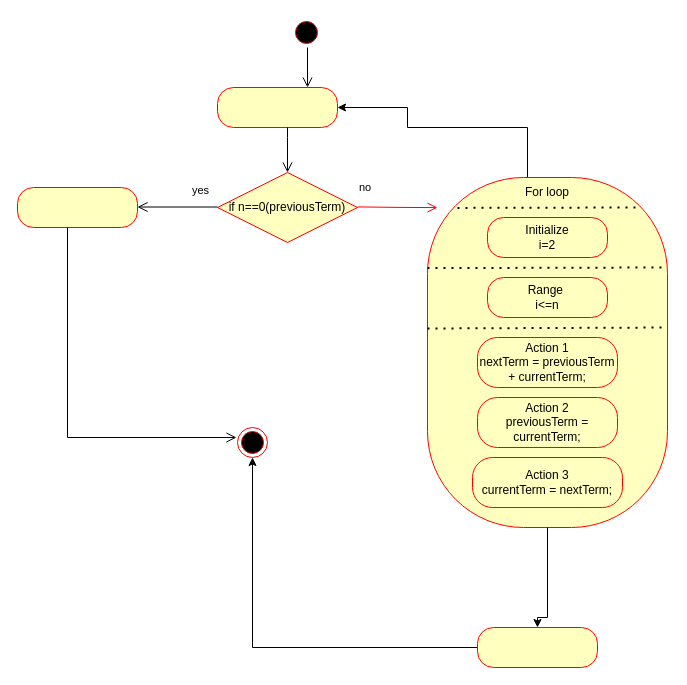
Image size: 687x685. Some labels were removed from this diagram. The shapes that lost their labels are listed below. From the top down, each one's centre as x and y in pixels, then its label:
At pixel 277 107: "calling fibonacci(int n)".
At pixel 77 207: "return previousTerm".
At pixel 537 647: "return currentTerm".
